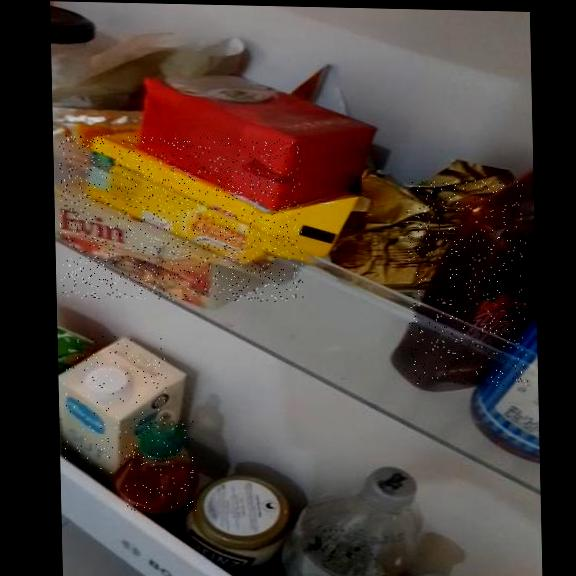butter: (58, 134, 303, 304)
milk: (60, 335, 169, 475)
sauce: (406, 179, 529, 387), (123, 416, 196, 512)
